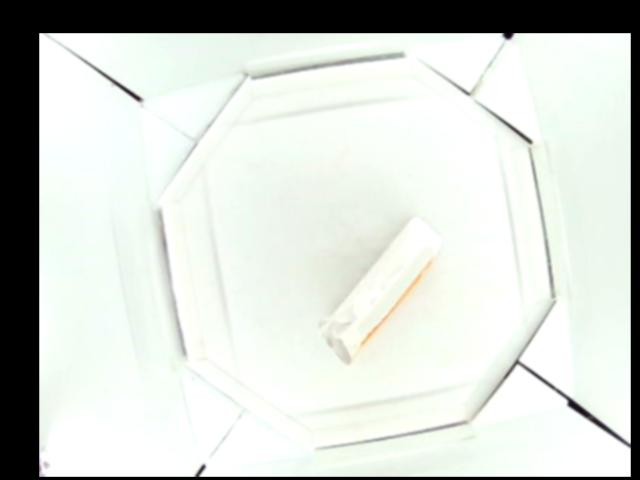China: (322, 218, 445, 364)
